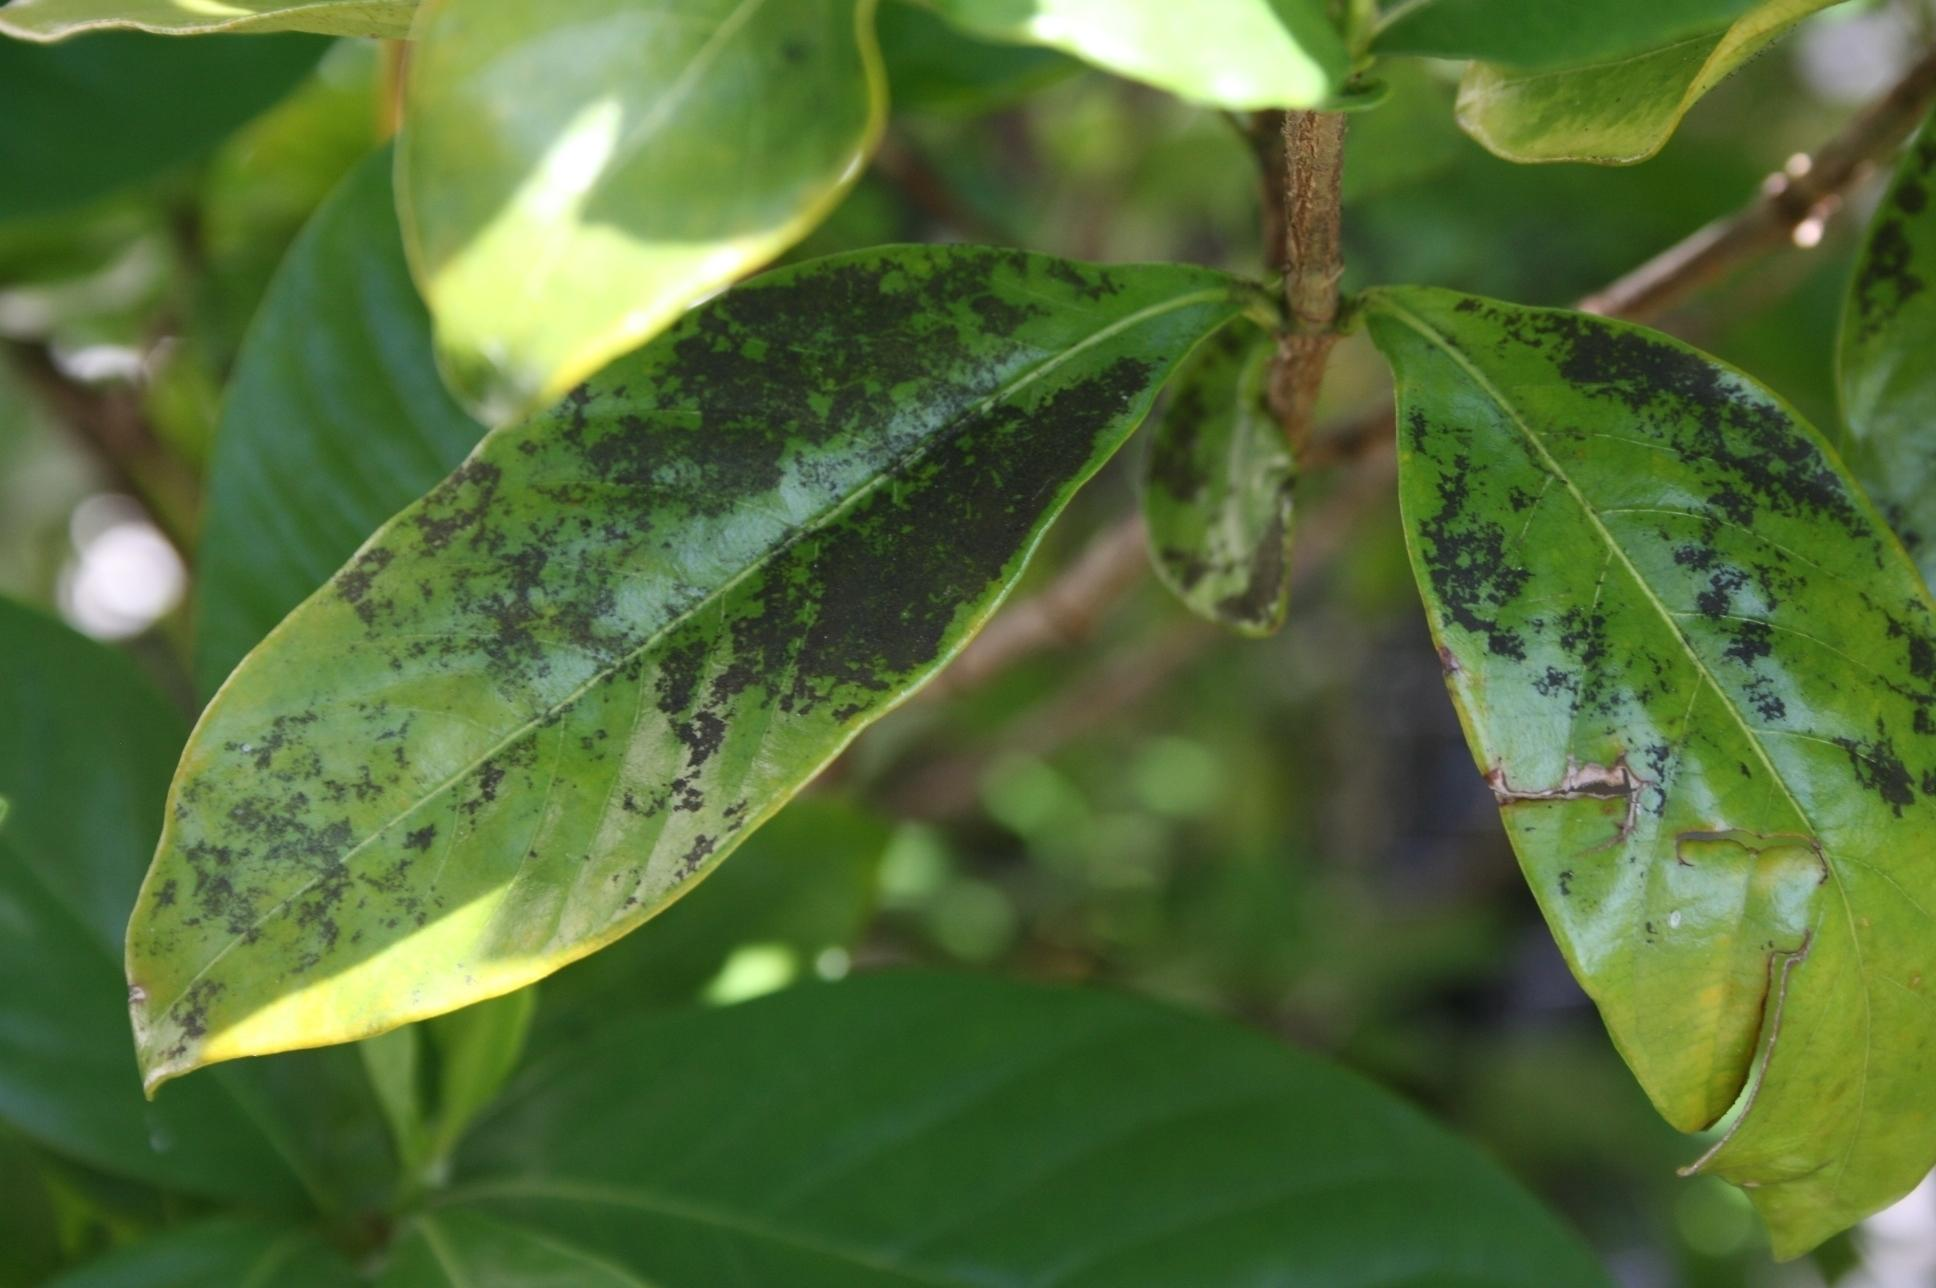soot dew: (339, 254, 1157, 814), (1475, 300, 1881, 724), (155, 709, 405, 970), (1420, 427, 1518, 664)
